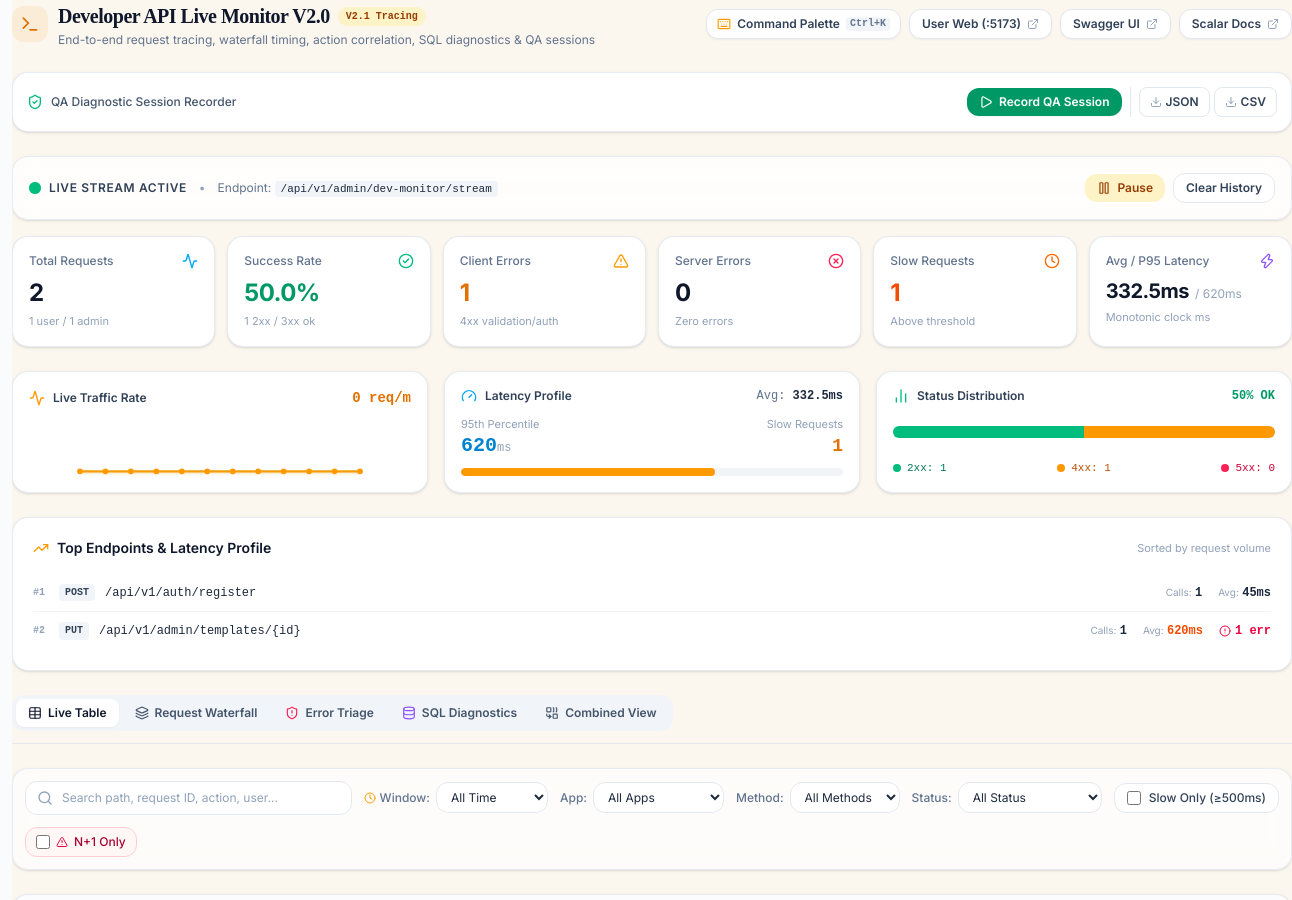
ApiMonitorFeature › switches to SQL Diagnostics view when button is clicked
Click the button "SQL Diagnostics".
click(459, 713)  # box top-left (390, 699), bottom-right (529, 727)
(page scrolled)
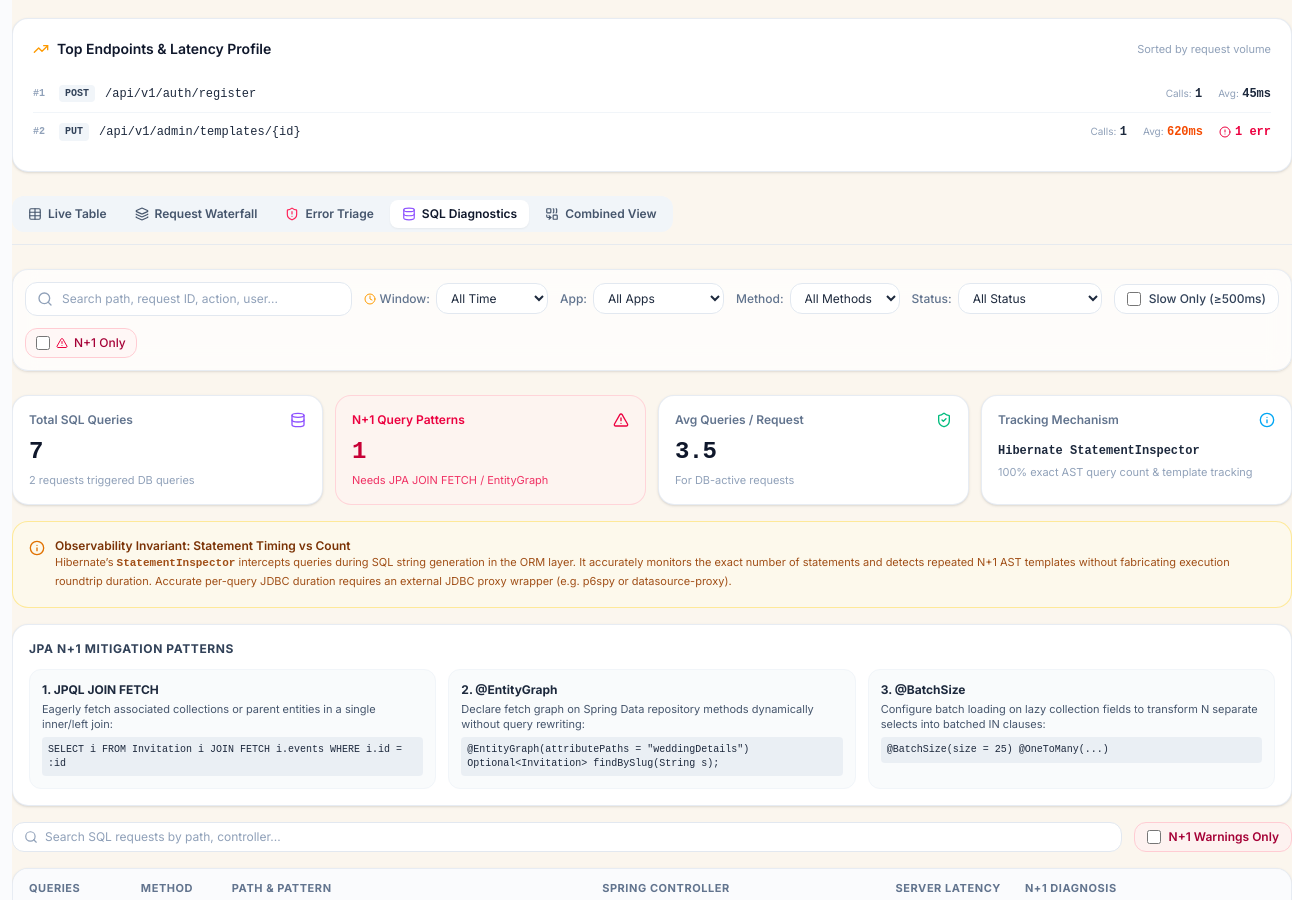
Now the text "Total SQL Queries" is shown, box top-left (29, 412), bottom-right (133, 428)
Now the text "N+1 Query Patterns" is shown, box top-left (352, 412), bottom-right (465, 428)
Now the text "Hibernate StatementInspector" is shown, box top-left (998, 444), bottom-right (1200, 458)
